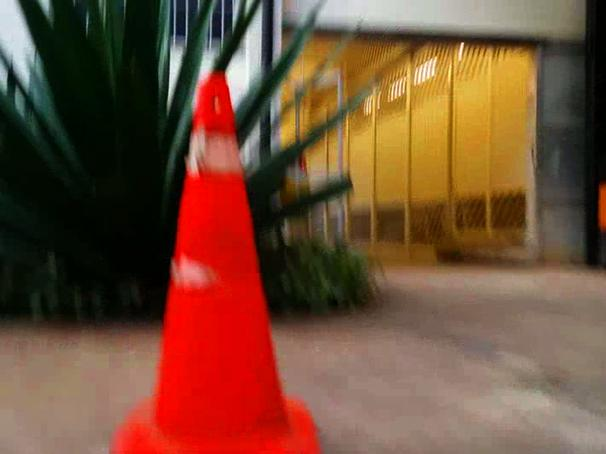0 cone: (110, 76, 320, 454)
